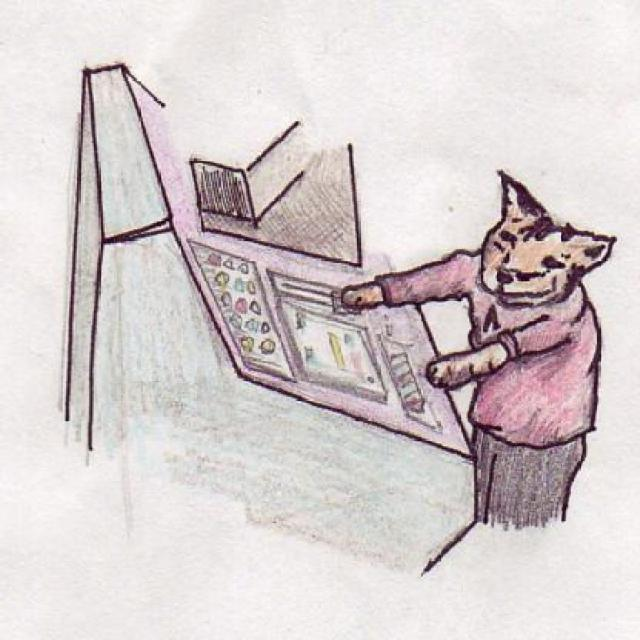obstacle: (330, 165, 615, 530)
